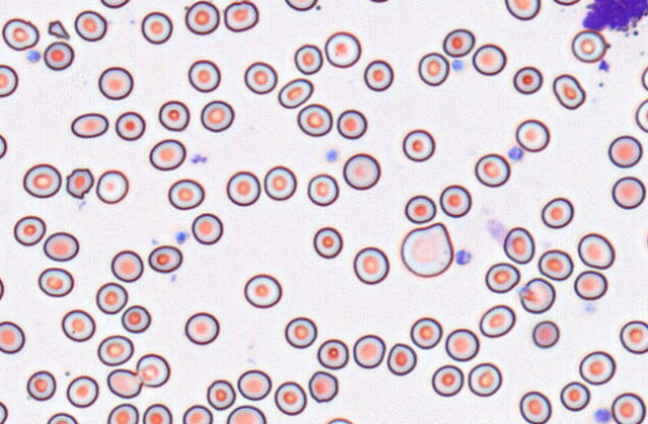PLT: (455, 248, 475, 266), (593, 408, 612, 424), (507, 146, 523, 163), (26, 49, 43, 64), (325, 150, 339, 164), (451, 57, 465, 71), (175, 231, 189, 244)
RBC: (400, 222, 453, 277), (342, 152, 380, 190), (577, 232, 615, 269), (353, 246, 389, 284), (243, 273, 282, 308), (22, 163, 61, 198), (518, 277, 555, 313), (324, 31, 361, 67), (578, 350, 615, 385), (571, 29, 608, 63), (467, 362, 502, 397), (184, 0, 219, 35), (474, 153, 510, 187), (226, 170, 260, 206), (2, 17, 39, 50), (184, 311, 219, 345), (515, 118, 550, 152), (98, 66, 133, 100), (479, 304, 515, 337), (552, 73, 585, 109), (167, 178, 204, 210), (503, 226, 534, 264), (136, 353, 170, 387), (297, 103, 332, 136), (263, 165, 296, 200), (97, 334, 133, 366), (537, 249, 573, 281), (149, 138, 185, 170), (445, 328, 479, 361), (352, 334, 385, 368), (611, 176, 645, 209), (608, 135, 642, 168), (95, 169, 128, 203), (402, 128, 435, 162), (223, 0, 258, 32), (277, 77, 313, 108), (409, 316, 442, 349), (66, 375, 99, 408), (110, 249, 143, 282), (187, 59, 220, 92), (244, 61, 277, 94), (417, 52, 449, 86), (61, 309, 95, 341), (274, 381, 306, 415), (472, 43, 506, 75), (200, 100, 234, 132), (485, 262, 520, 293), (106, 368, 142, 398), (43, 231, 79, 261), (38, 267, 74, 297), (519, 390, 551, 423), (284, 316, 317, 348), (140, 11, 172, 44), (307, 173, 339, 206), (439, 184, 471, 217), (611, 392, 645, 423), (237, 369, 271, 400), (95, 282, 127, 314), (431, 364, 463, 396), (191, 212, 223, 244), (13, 215, 46, 246), (74, 10, 107, 41), (573, 270, 607, 300), (316, 338, 348, 369), (541, 197, 573, 228), (386, 342, 416, 375), (70, 112, 108, 138), (148, 244, 182, 273), (158, 100, 189, 131), (308, 370, 338, 402), (363, 59, 393, 91), (442, 28, 475, 57), (619, 320, 647, 354), (559, 381, 590, 411), (26, 370, 56, 401), (293, 43, 323, 74), (336, 109, 367, 139), (404, 194, 436, 223), (313, 226, 342, 258), (206, 379, 235, 410), (43, 41, 74, 70), (121, 304, 151, 333), (115, 111, 145, 140), (512, 65, 542, 94), (0, 320, 25, 354), (531, 320, 559, 348), (226, 404, 266, 423), (504, 0, 540, 20), (106, 403, 139, 423), (142, 403, 172, 423), (0, 64, 18, 97), (182, 404, 212, 423), (635, 98, 647, 132), (284, 0, 317, 11), (46, 412, 78, 423), (100, 0, 130, 8), (0, 400, 8, 423), (0, 133, 7, 159), (641, 64, 648, 90), (552, 0, 580, 6), (326, 417, 353, 423), (0, 275, 4, 301), (367, 0, 391, 3)
Schistocyte: (66, 167, 95, 200), (46, 19, 71, 40)
